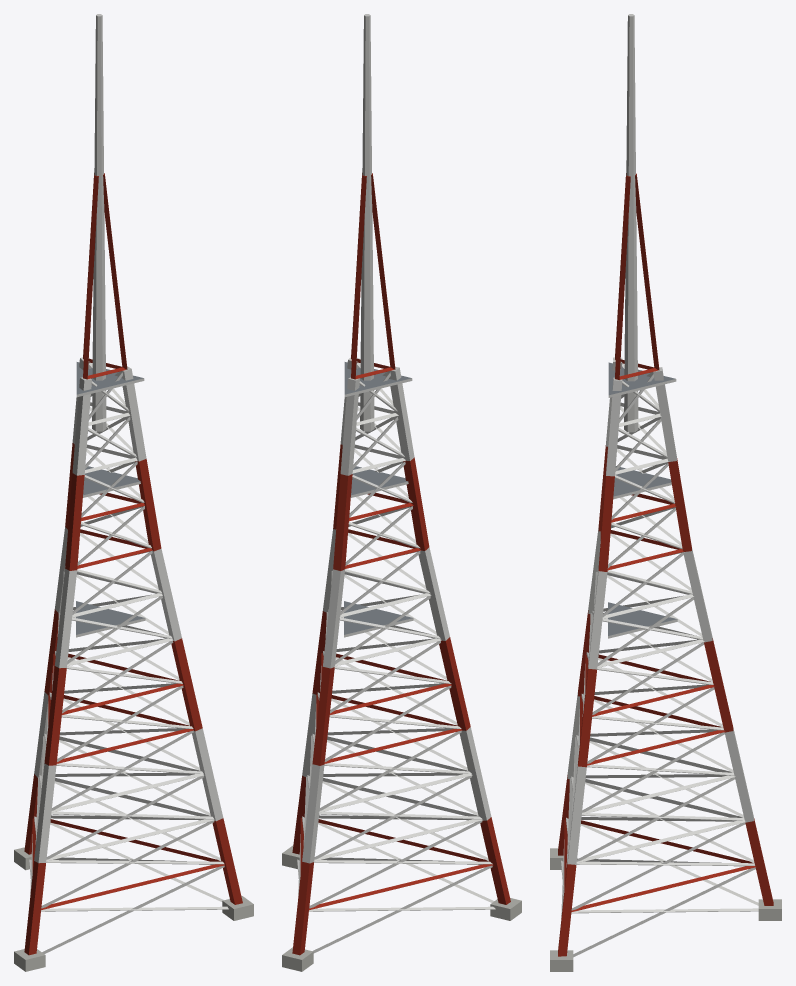
The model's file is desktop.glb.
3 renders of one model, left to right at view 1: azimuth 30°, elevation 25°; view 2: azimuth 150°, elevation 25°; view 3: azimuth 270°, elevation 25°, orthographic.
Parts seen in each view (by area): view 1: lm.sutro-tower; view 2: lm.sutro-tower; view 3: lm.sutro-tower.
Boxes of the visible parts, x1=… form: lm.sutro-tower: x1=14, y1=14, x2=253, y2=971; lm.sutro-tower: x1=282, y1=14, x2=521, y2=971; lm.sutro-tower: x1=550, y1=14, x2=781, y2=971.
Bounding box in the file's own units: 79.75 × 300 × 70.
